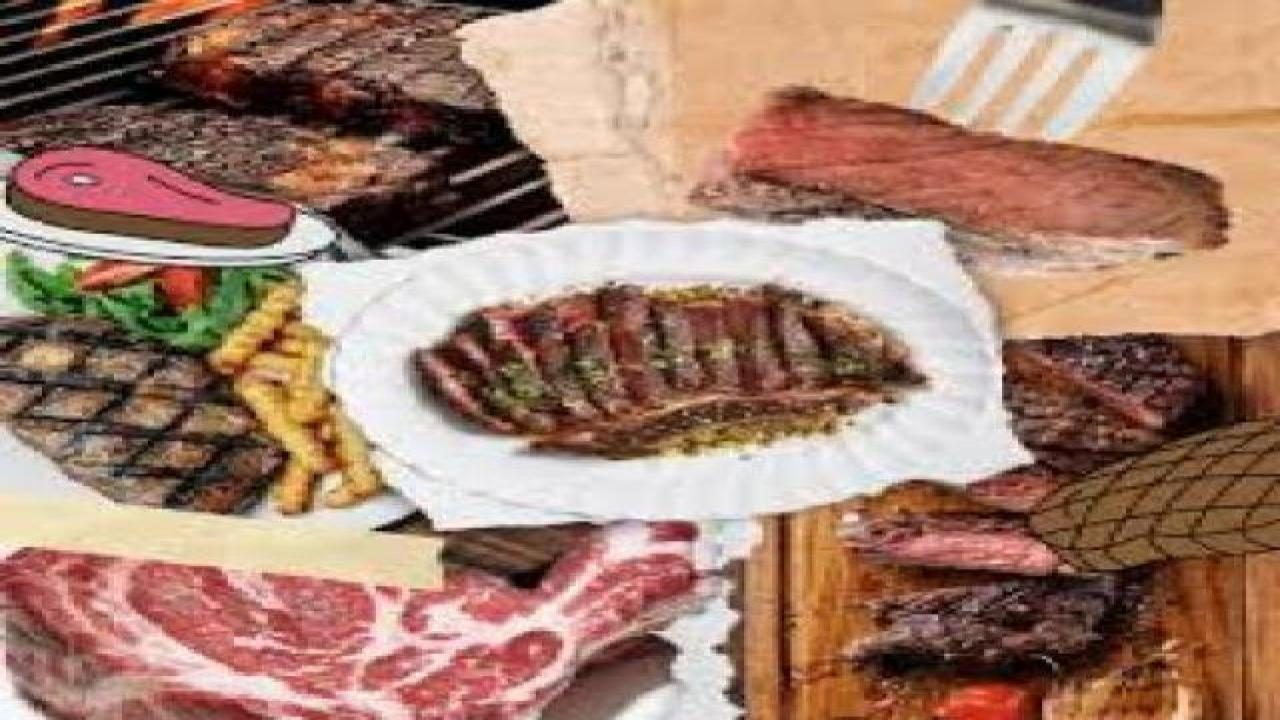Carne: (0, 507, 728, 720), (852, 296, 1180, 686), (692, 95, 1248, 298), (403, 280, 923, 437), (0, 292, 322, 502)
